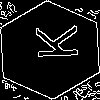K: (25, 25, 79, 61)
